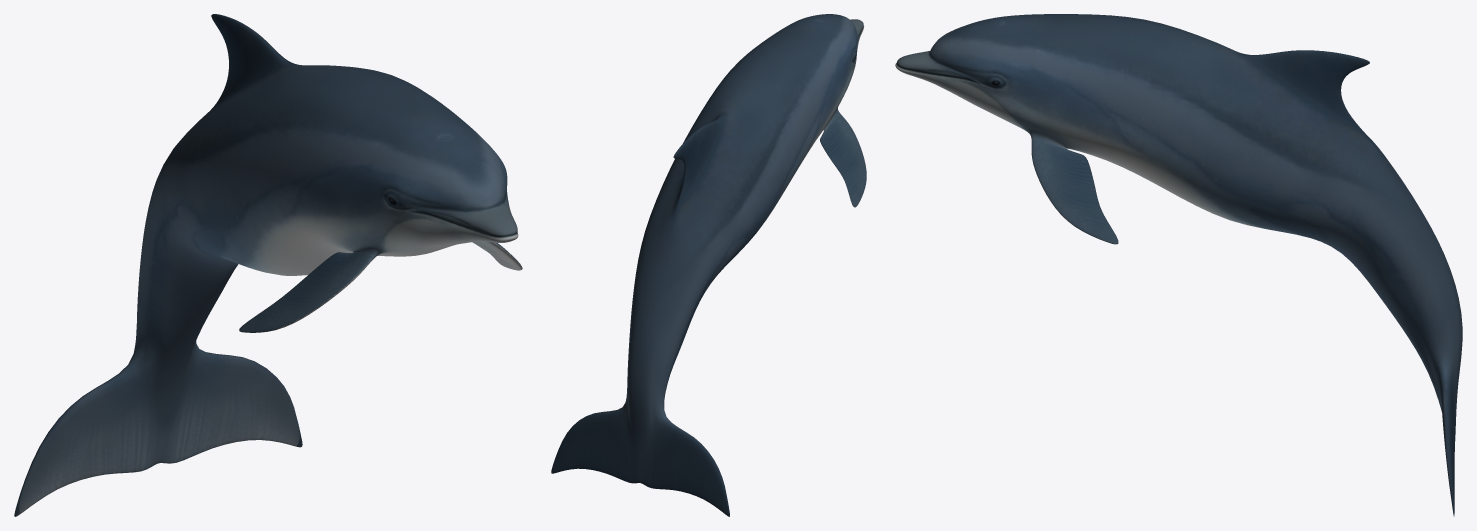
Rendered from lumba.gltf.
3 views of the same model, side by side, from view 1: azimuth 30°, elevation 25°; view 2: azimuth 150°, elevation 25°; view 3: azimuth 270°, elevation 25° (orthographic). The views are drawn at different scales.
Parts seen in each view (by area): view 1: 10014_dolphin_v2_max2011_it2; view 2: 10014_dolphin_v2_max2011_it2; view 3: 10014_dolphin_v2_max2011_it2.
Boxes of the visible parts, x1,y1,x2,y2 form: 10014_dolphin_v2_max2011_it2: (14,14,522,516); 10014_dolphin_v2_max2011_it2: (551,14,866,516); 10014_dolphin_v2_max2011_it2: (895,14,1462,516).
Bounding box in the file's own units: 0.8225 × 1.52 × 1.78.
Materials: 1 (1 with a texture image).
